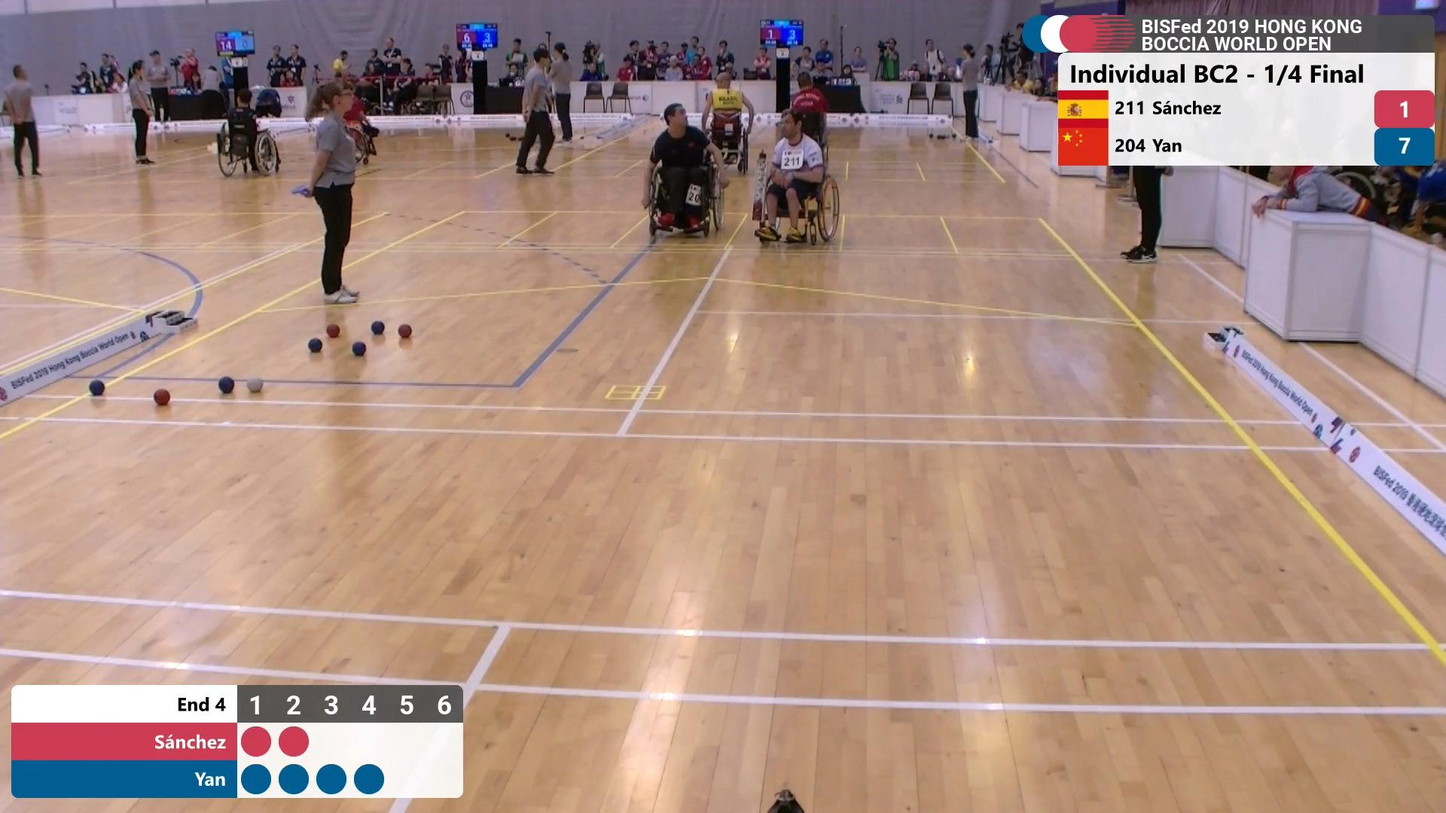blue_ball: (87, 377, 106, 399), (217, 375, 235, 394), (306, 336, 324, 353), (351, 339, 367, 356), (370, 319, 386, 336)
red_ball: (152, 387, 172, 407), (397, 322, 413, 338), (326, 323, 341, 338)
white_ball: (245, 373, 265, 395)
